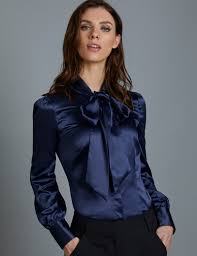C_blouse: (17, 72, 175, 232)
